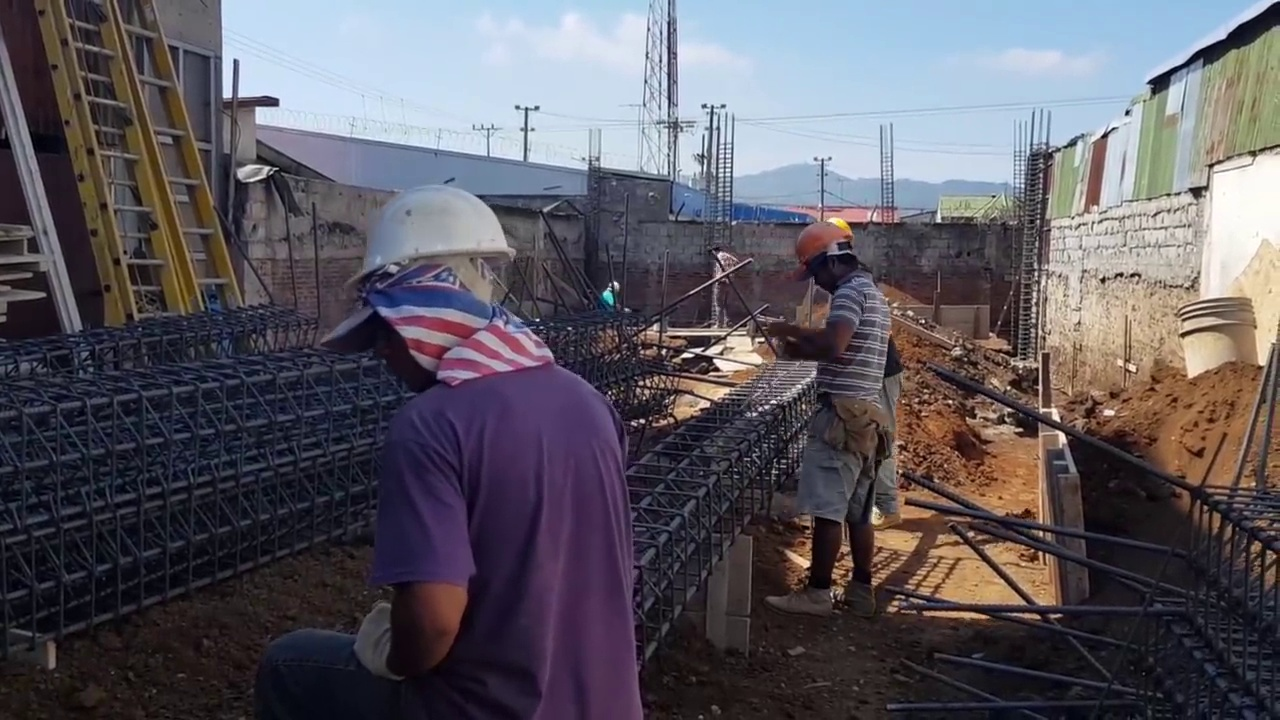helmet: (339, 178, 519, 300), (788, 213, 859, 268)
helmet-off: (708, 243, 722, 261)
helmet-on: (344, 183, 511, 370), (793, 220, 860, 295)
person: (333, 181, 637, 720), (764, 201, 894, 629), (706, 242, 737, 329)
